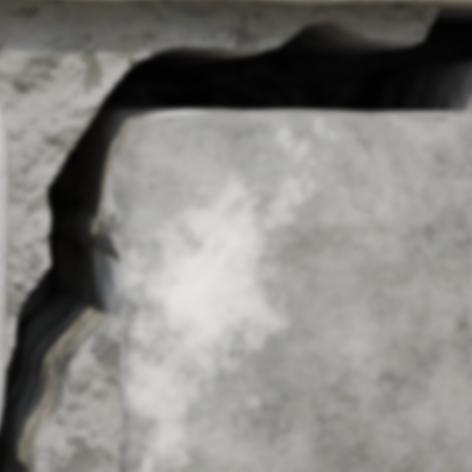brick: (120, 113, 471, 471), (0, 116, 8, 415), (250, 0, 471, 3)
crack: (0, 2, 471, 471)
